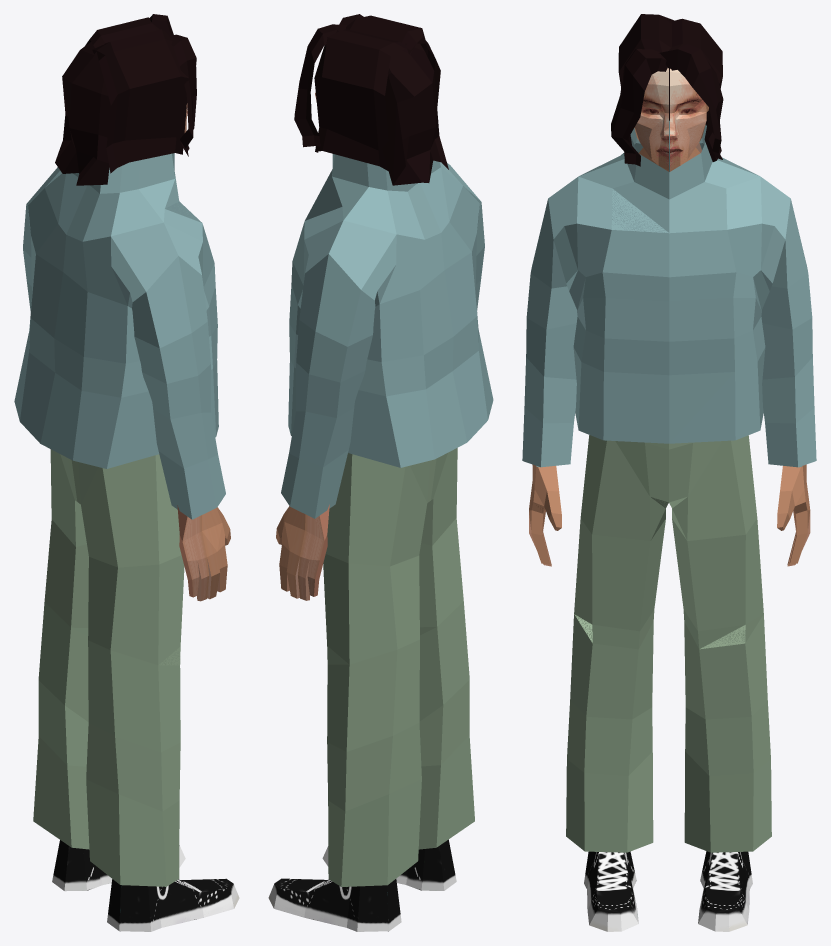
Rendered from jon1.gltf.
3 renders of one model, left to right at view 1: azimuth 30°, elevation 25°; view 2: azimuth 150°, elevation 25°; view 3: azimuth 270°, elevation 25°, orthographic.
Parts seen in each view (by area): view 1: Cube.004, Cube.009, Plane.003, Cube.010, Plane.005, Cube.003, Plane.004, Plane.001; view 2: Cube.004, Cube.009, Plane.001, Cube.010, Plane.005, Cube.003, Plane.002, Plane.003; view 3: Cube.004, Cube.009, Cube.003, Cube.010, Plane.004, Plane.002, Plane.003, Plane.001.
Boxes of the visible parts, x1,y1,x2,y2 form: Cube.004: (14,153,225,519); Cube.009: (33,449,184,886); Plane.003: (92,29,188,173); Cube.010: (52,840,239,931); Plane.005: (55,42,110,185); Cube.003: (177,103,230,601); Plane.004: (169,34,196,156); Plane.001: (85,17,159,48); Cube.004: (281,154,493,518); Cube.009: (323,448,474,886); Plane.001: (314,29,407,170); Cube.010: (268,839,456,931); Plane.005: (382,43,448,185); Cube.003: (276,92,329,600); Plane.002: (294,24,346,147); Plane.003: (345,15,440,106); Cube.004: (522,120,816,467); Cube.009: (566,435,771,852); Cube.003: (529,68,810,566); Cube.010: (584,851,752,931); Plane.004: (611,48,669,166); Plane.002: (659,43,723,159); Plane.003: (618,14,674,145); Plane.001: (669,18,722,161).
Size of the model in its own units: 0.5379 by 2.64 by 0.811.
9 materials, 2 textured.
